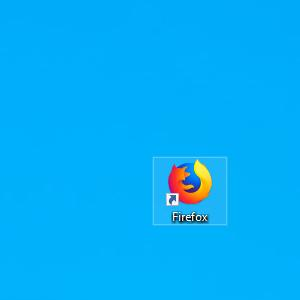firefox: (166, 159, 213, 206)
